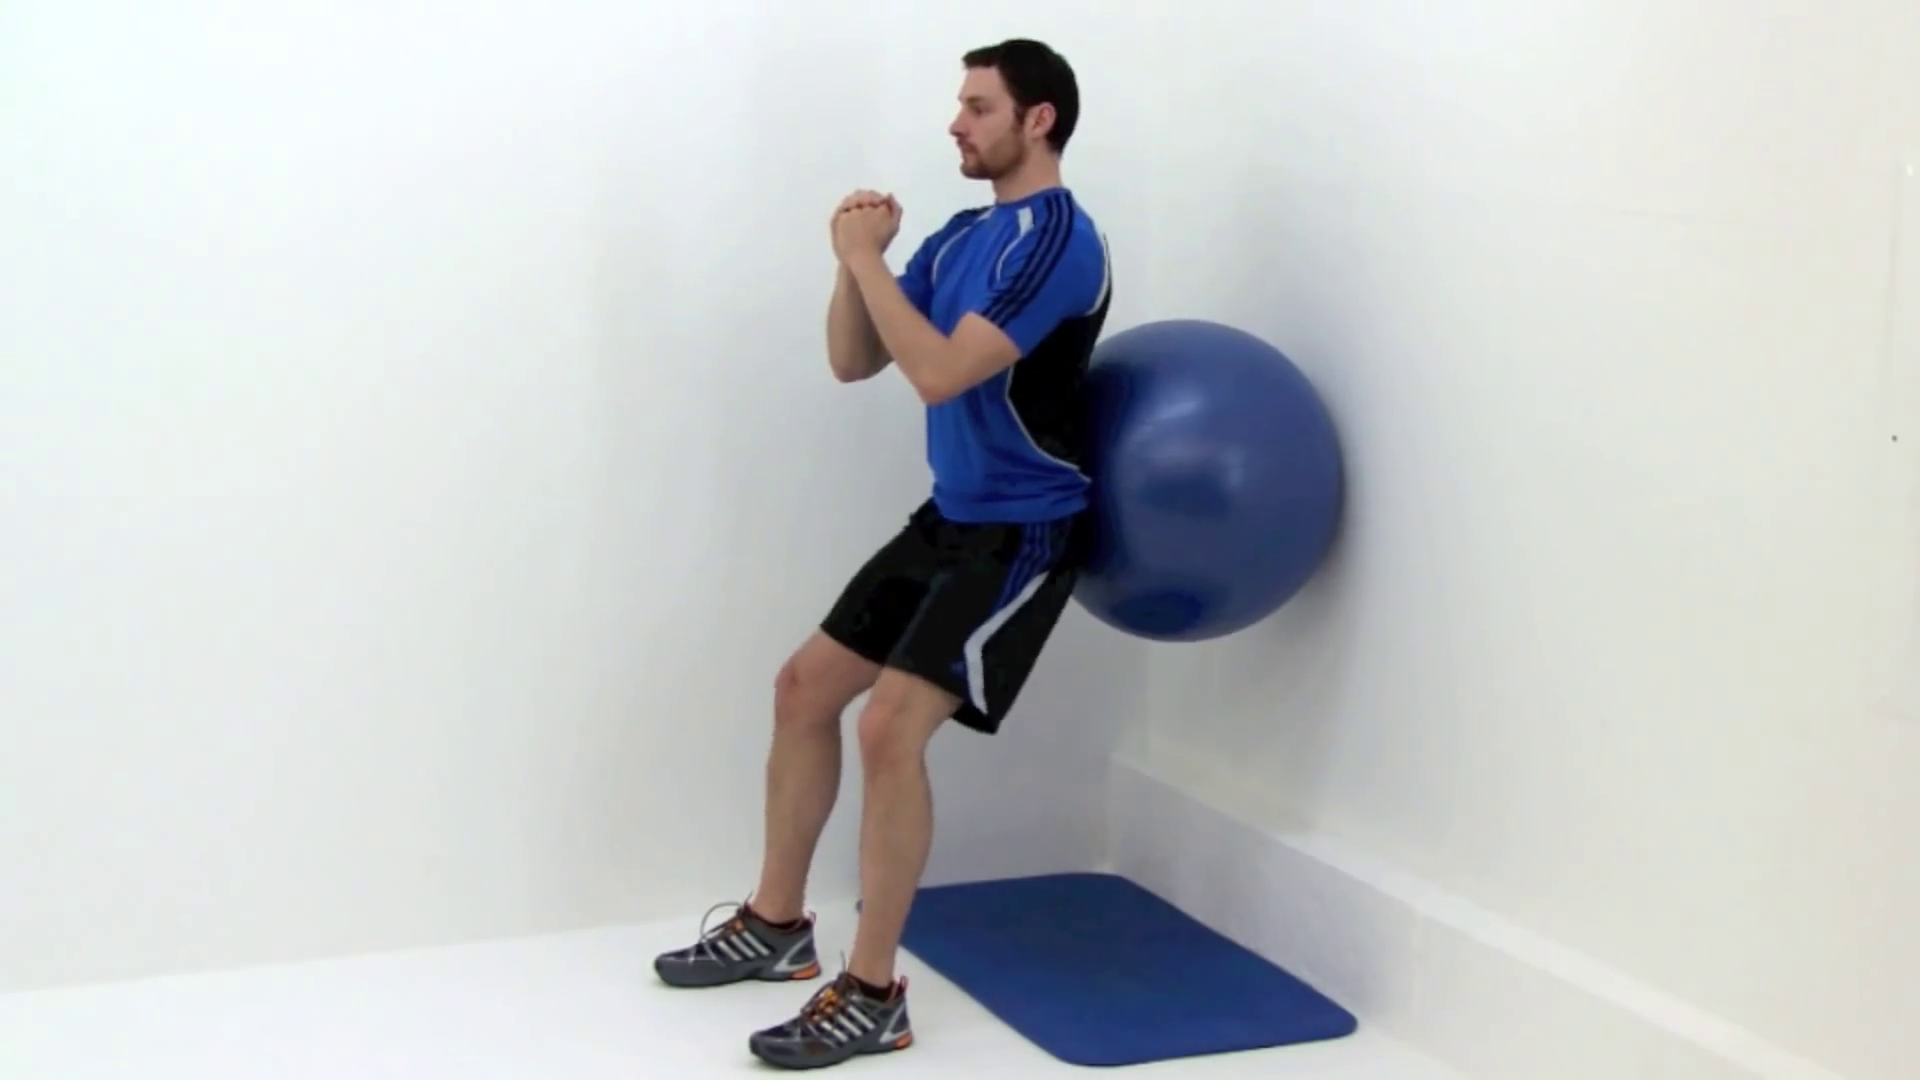yogaball: (1038, 301, 1373, 659)
